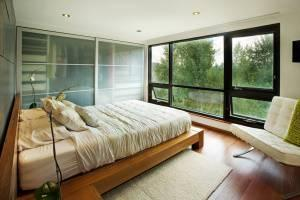window: (147, 26, 279, 125)
